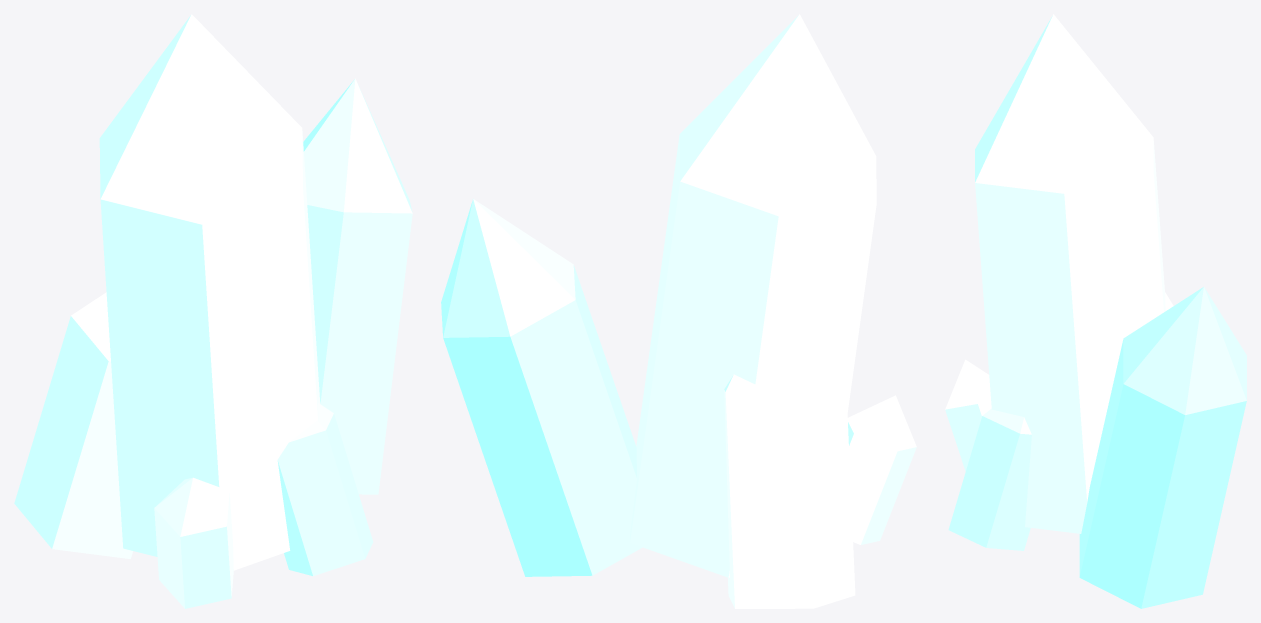
Rendered from crystal.glb.
3 views of the same model, side by side, from view 1: azimuth 30°, elevation 25°; view 2: azimuth 150°, elevation 25°; view 3: azimuth 270°, elevation 25° (orthographic). The views are drawn at different scales.
Visible parts, largest first — view 1: crystal; view 2: crystal; view 3: crystal.
Part boxes in pixels (x1=…): crystal: x1=14, y1=14, x2=412, y2=608; crystal: x1=441, y1=14, x2=916, y2=608; crystal: x1=945, y1=14, x2=1246, y2=608.
Size of the model in its own units: 0.7707 by 1.06 by 0.584.
